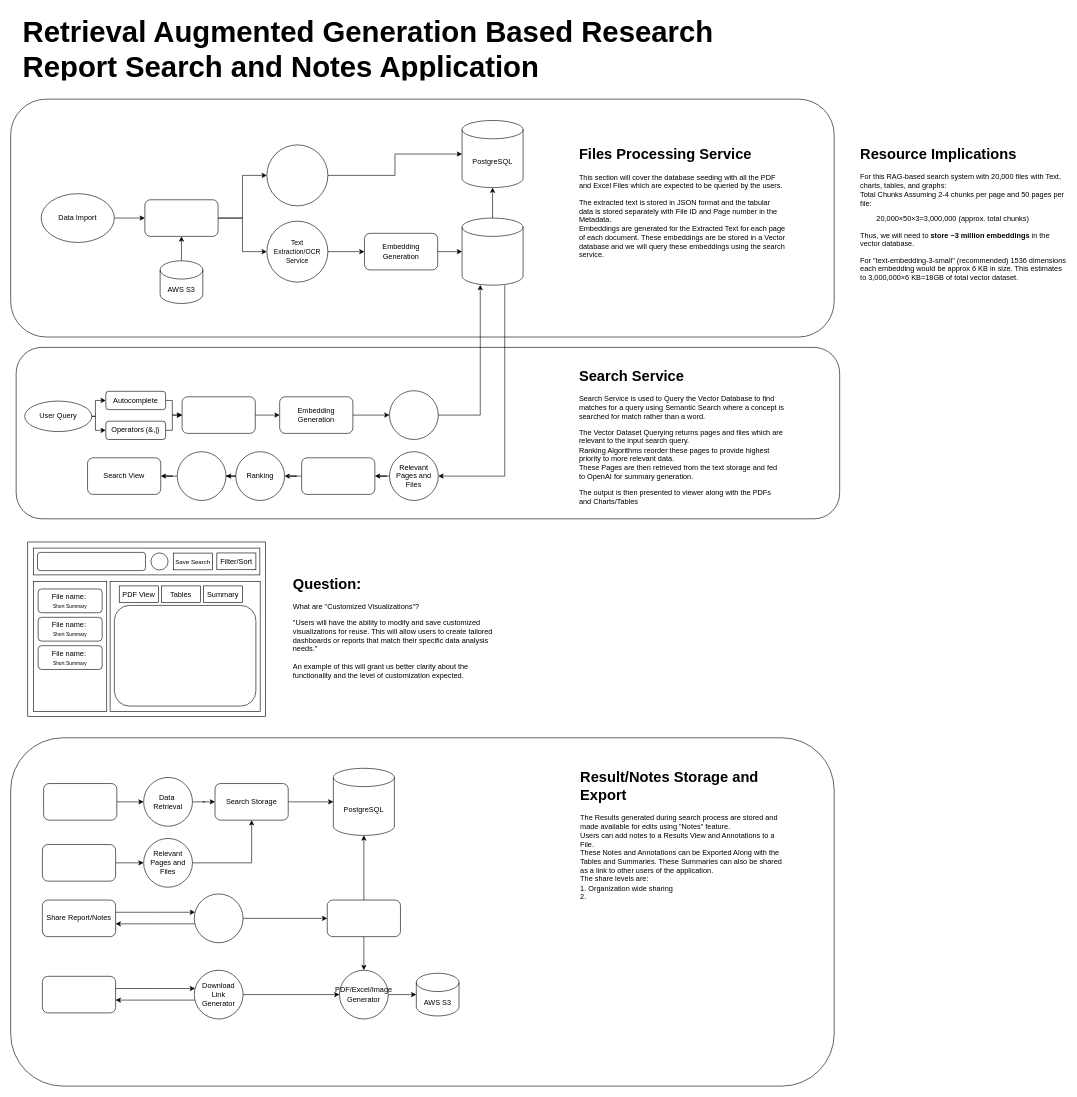
Some shapes in this 1077 by 1097 pixel diagram are drawn without their labels. The centre of each missing label's shape, as x and y in pixels:
"Chart and Tabular Data Extraction" goes at pixel 297 175.
"Database Query" goes at pixel 413 415.
"Export Report/Notes" goes at pixel 79 994.
"Files Dataset" goes at pixel 181 217.
"Notes and Annotations" goes at pixel 79 862.
"OpenAI Summary" goes at pixel 201 476.
"Query" goes at pixel 91 561.
"Report/Notes Retrieval" goes at pixel 363 918.
"Result View" goes at pixel 185 655.
"Save Search Results" goes at pixel 80 801.
"Search Service" goes at pixel 218 414.
"Shareable Link Generator" goes at pixel 218 918.
"Tabular Data and File-Page Extraction" goes at pixel 338 475.
"Vector Database" goes at pixel 492 251.
